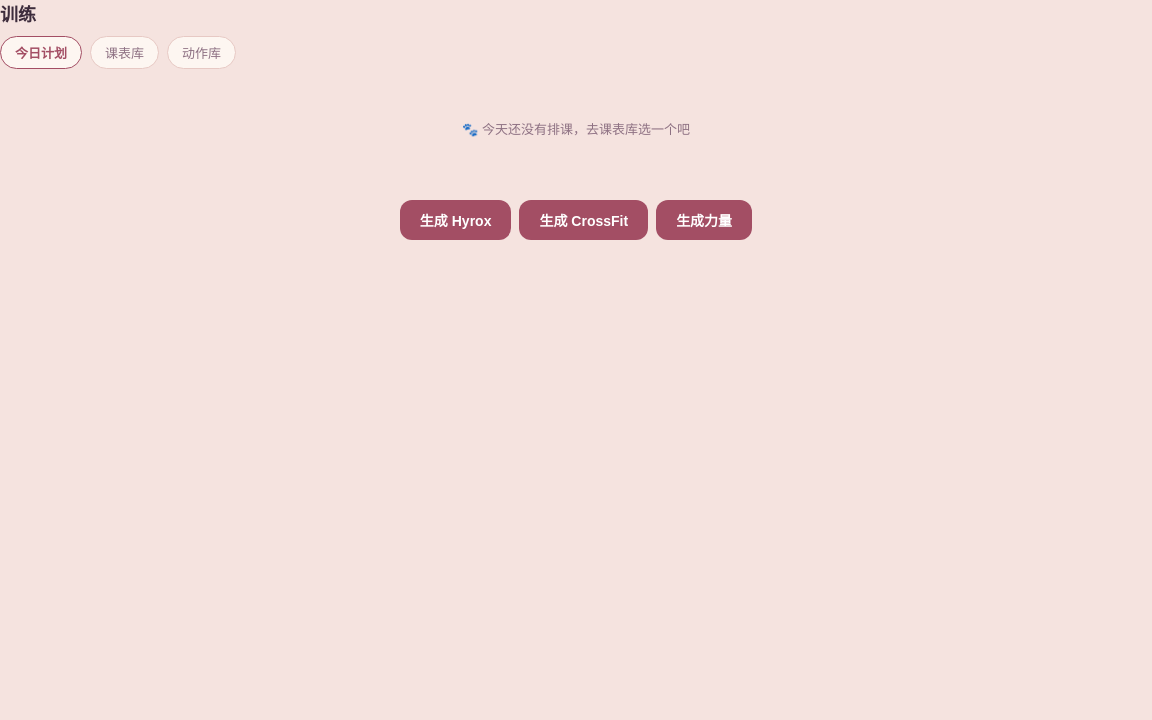
Scenario: TrainView 课表库 › 切到课表库 → 展示模板卡片
This screenshot has width=1152, height=720.
Step 1. Click the button "课表库" → [124, 52], box [90, 36, 159, 69]
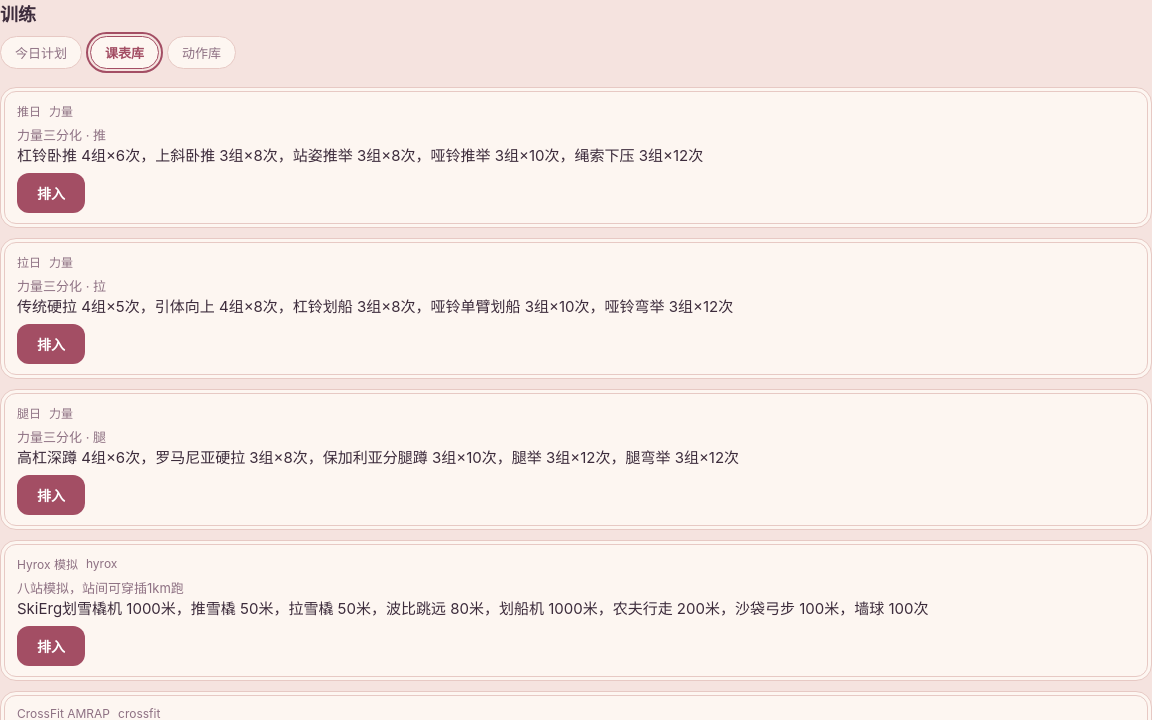
Expected: the text "推日" is shown, [17, 102, 41, 119]
Expected: the text "拉日" is shown, [17, 253, 41, 270]
Expected: the text "腿日" is shown, [17, 404, 41, 421]
